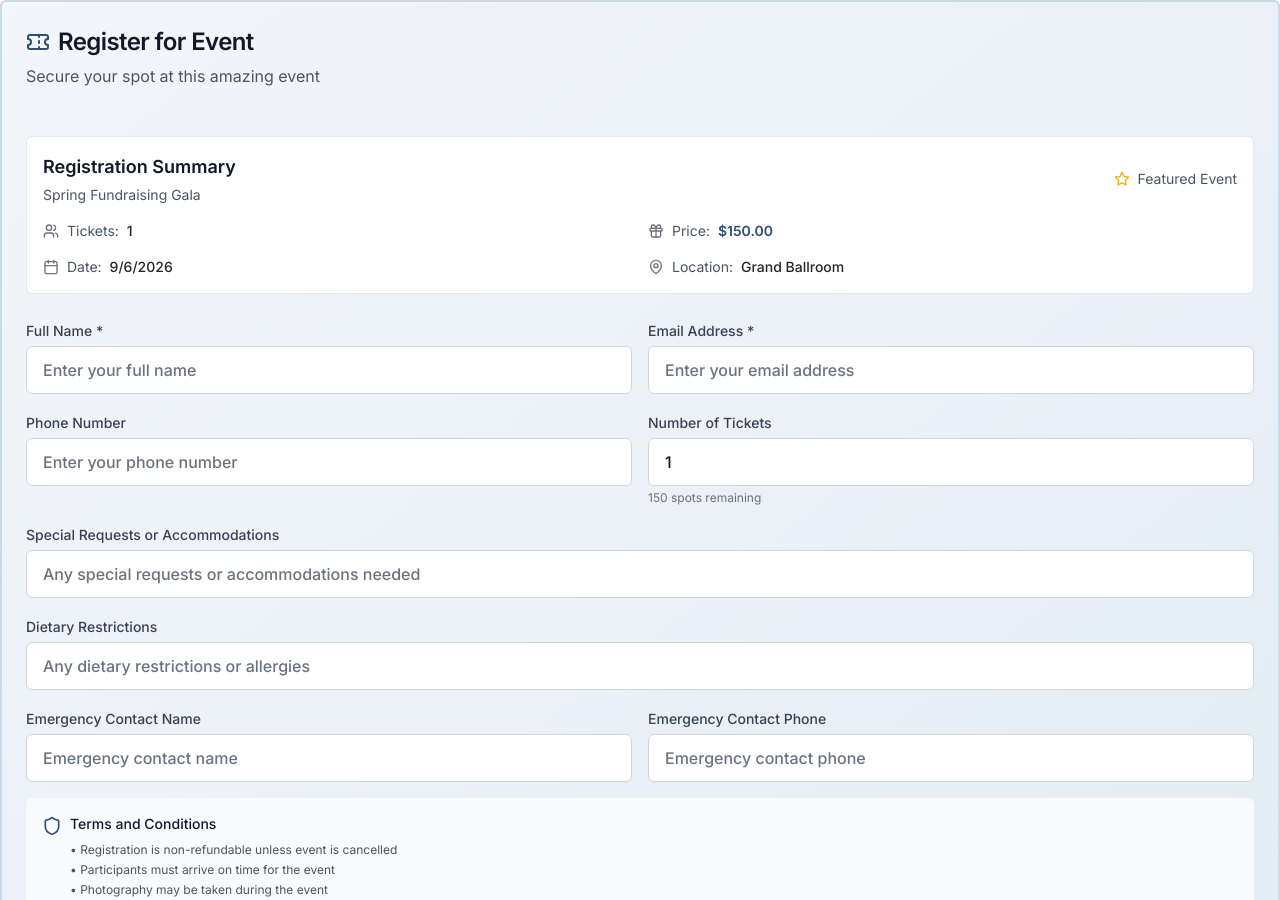
EventRegistration Component › updates ticket quantity and total amount
Step 1. Replace the text in the number field labelled "Number of Tickets" with "3" → (951, 462), box [648,438,1254,486]
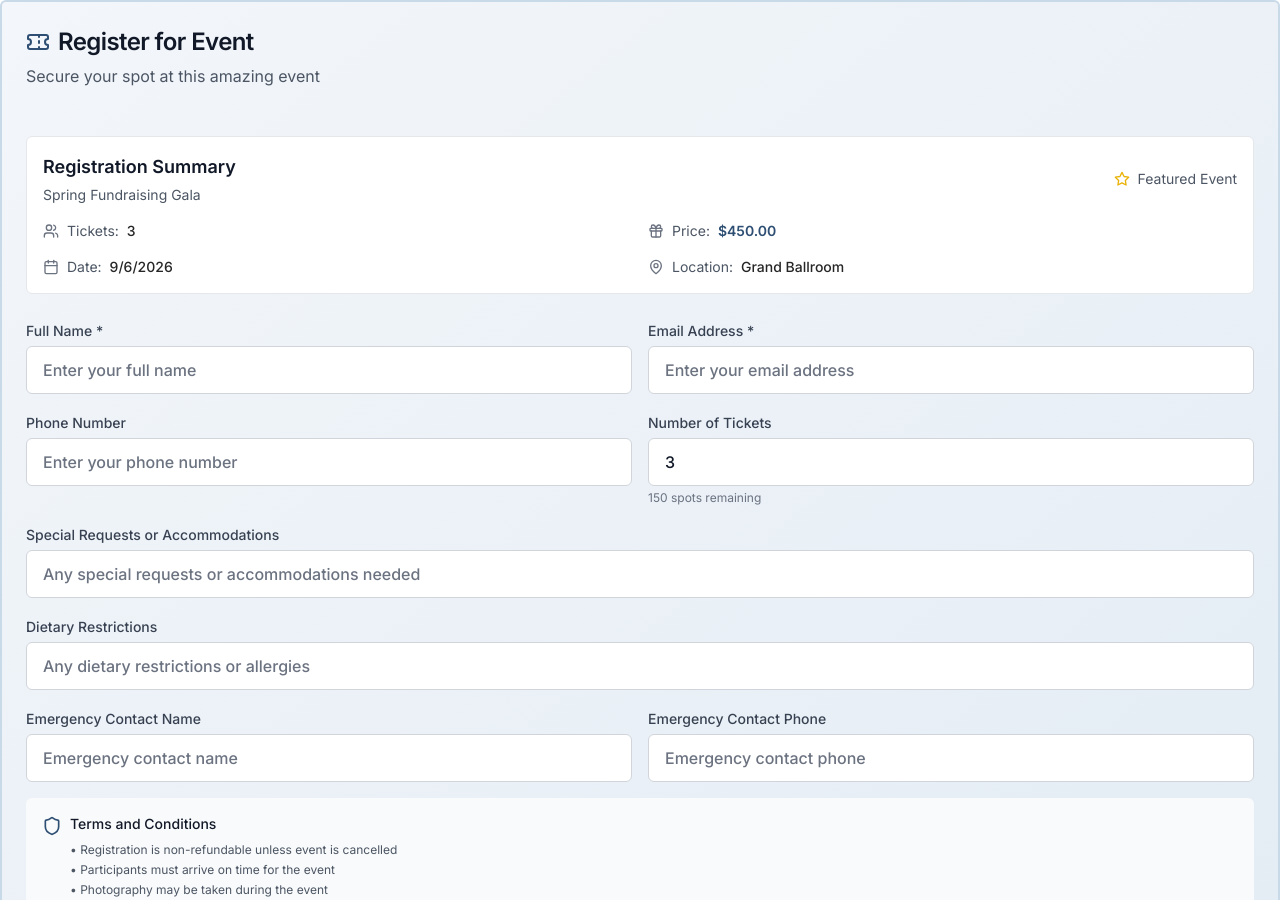
expect the text "$450.00" is shown: met, box [718,221,776,241]
